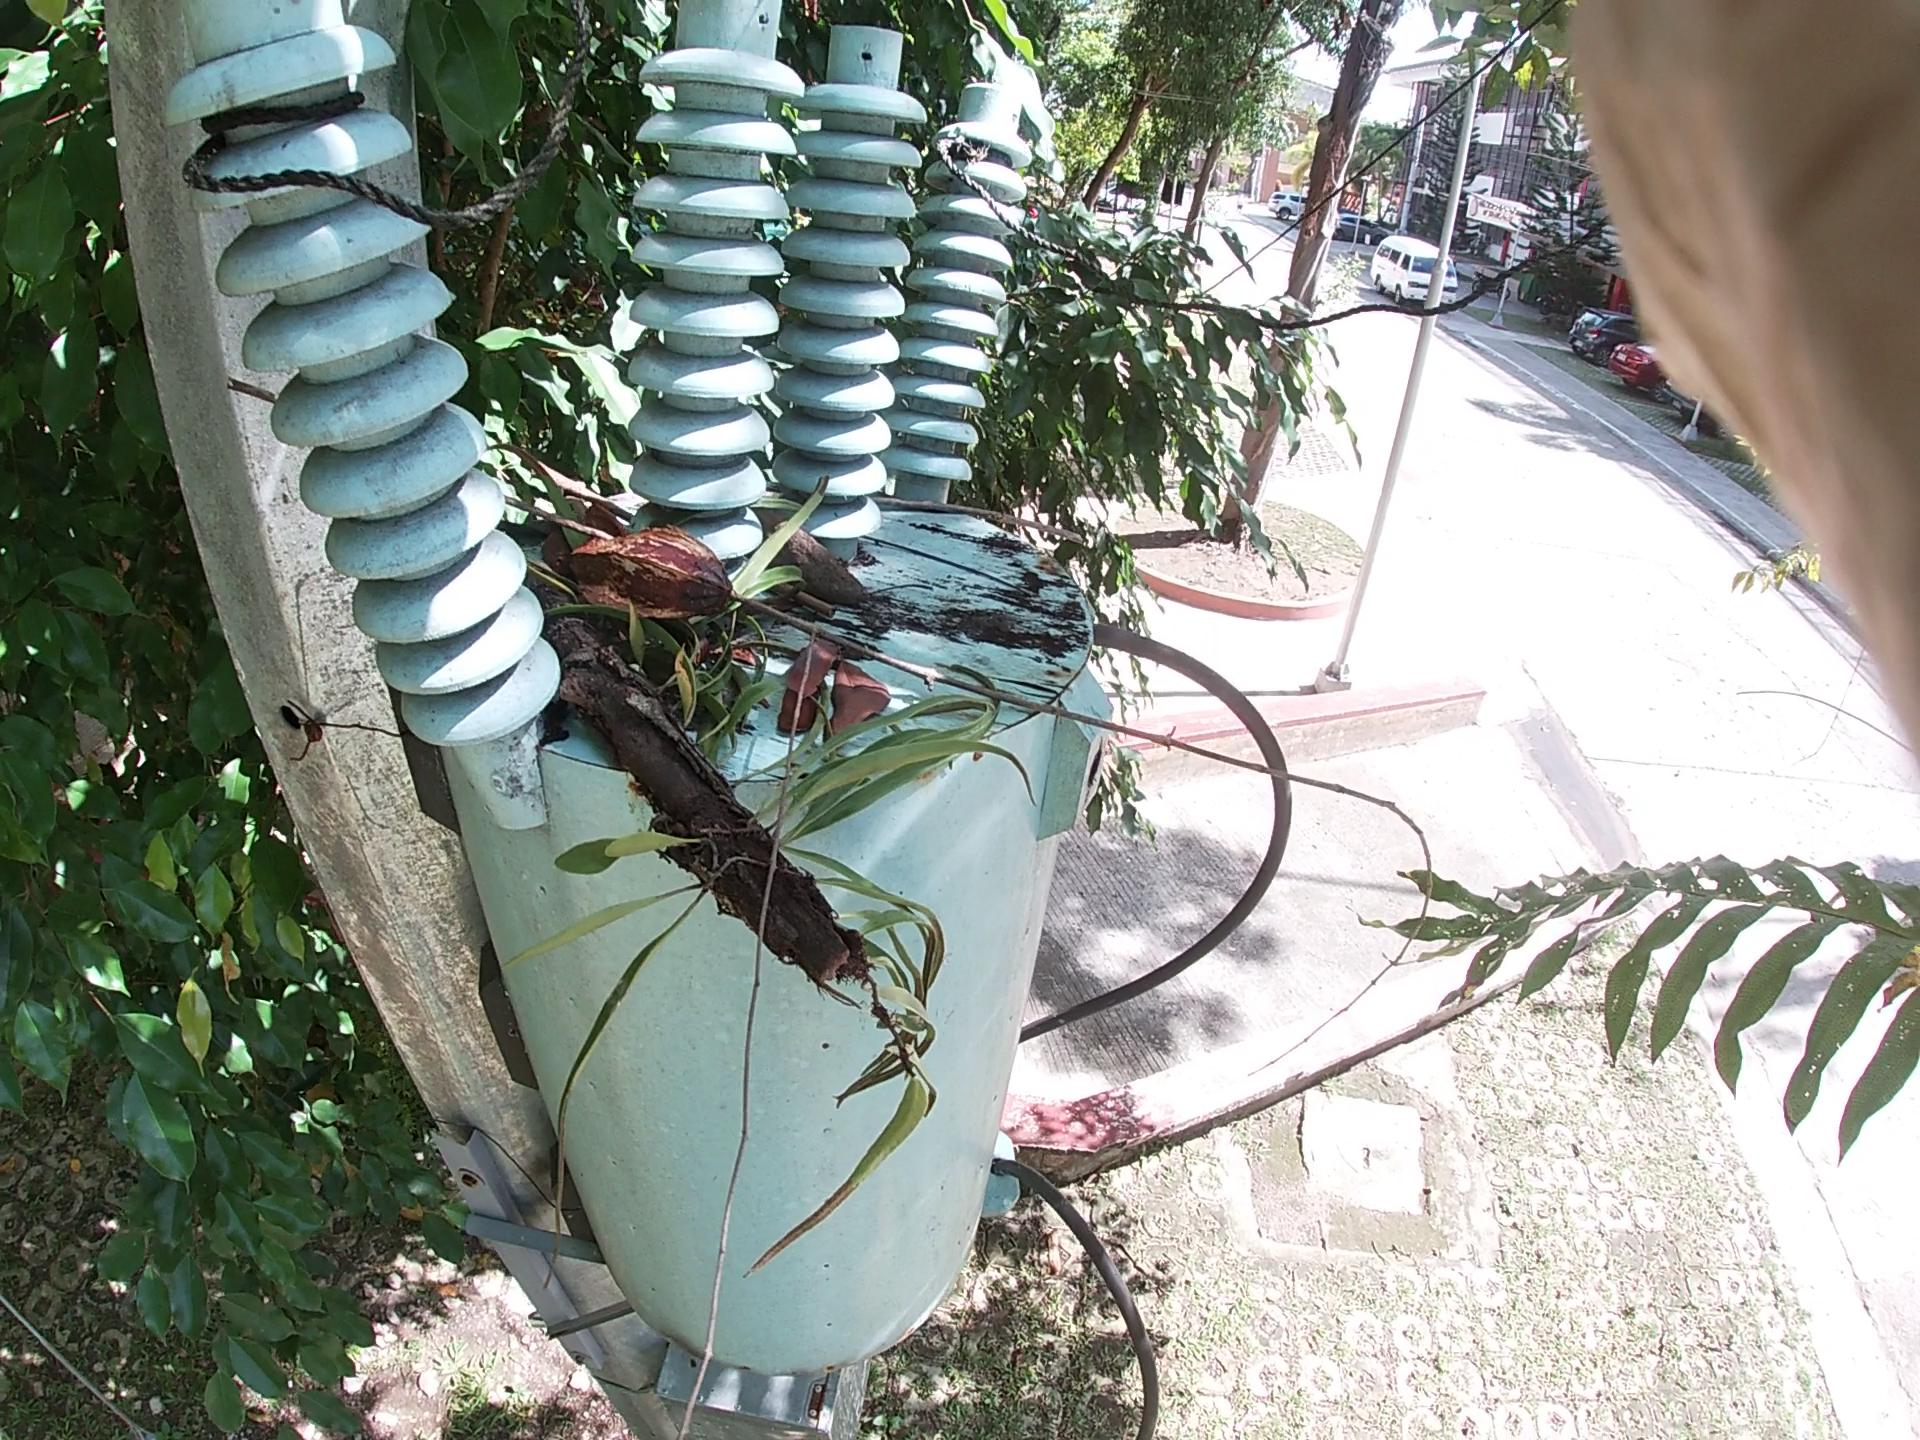branch with leaves: (481, 555, 940, 1035)
leaf: (806, 626, 912, 732)
mahogany fruit: (726, 501, 836, 611), (541, 510, 647, 616)
tree branch: (420, 469, 1501, 852), (859, 483, 1161, 545), (768, 560, 853, 631)
